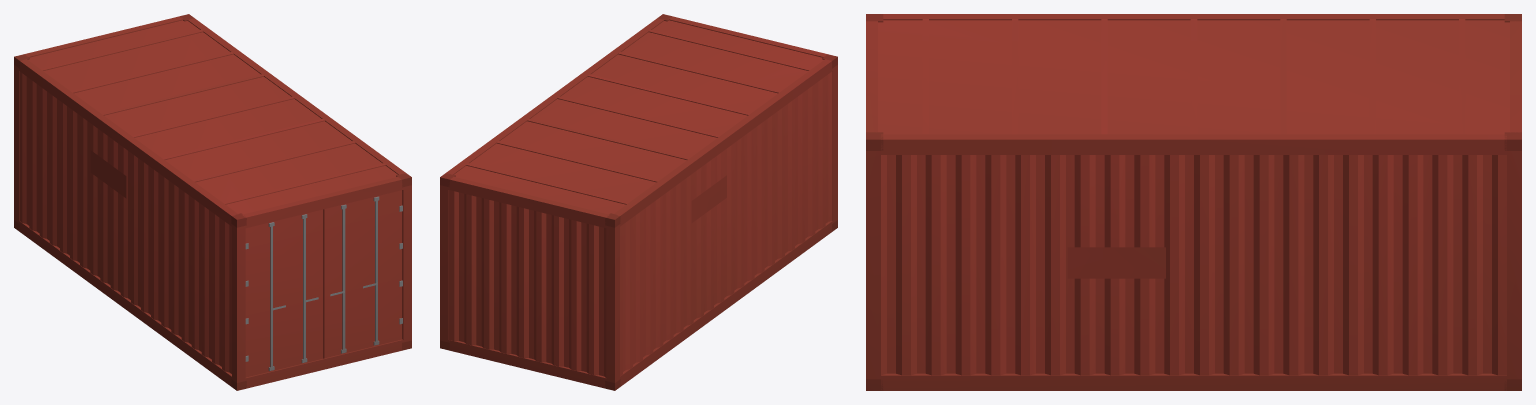
File: container.shipping.red.glb
3 renders of one model, left to right at view 1: azimuth 30°, elevation 25°; view 2: azimuth 150°, elevation 25°; view 3: azimuth 270°, elevation 25°, orthographic. The views are drawn at different scales.
Visible parts, largest first — view 1: container_shipping_red; view 2: container_shipping_red; view 3: container_shipping_red.
Boxes of the visible parts, left/top/right/bottom form: container_shipping_red: left=14, top=14, right=411, bottom=390; container_shipping_red: left=440, top=14, right=837, bottom=390; container_shipping_red: left=866, top=14, right=1521, bottom=390.
Size of what is drawn, in the model's own units: 2.78 by 2.6 by 6.14.
